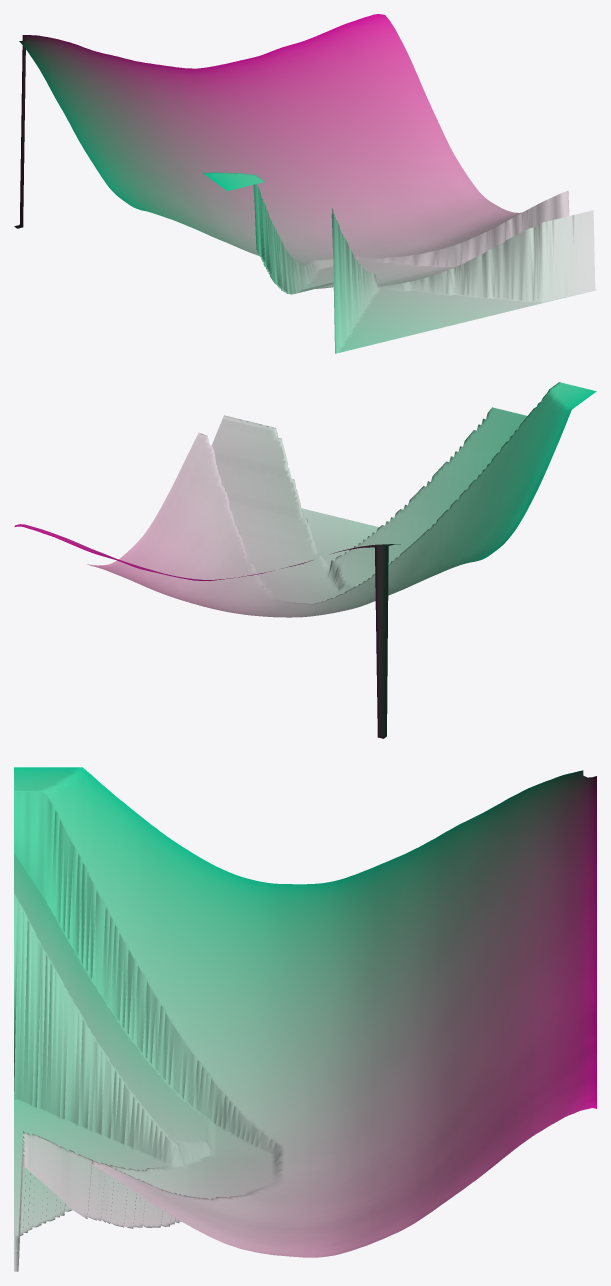
Rendered from dsm_c12c20f568_mesh.glb.
3 renders of one model, top to bottom at view 1: azimuth 30°, elevation 25°; view 2: azimuth 150°, elevation 25°; view 3: azimuth 270°, elevation 25°, orthographic. The views are drawn at different scales.
Parts seen in each view (by area): view 1: geometry_0; view 2: geometry_0; view 3: geometry_0.
Part boxes in pixels (box(x1,y1,x2,y2)): geometry_0: box(14, 14, 596, 353); geometry_0: box(14, 382, 596, 738); geometry_0: box(14, 767, 596, 1271).
Bounding box in the file's own units: 2 × 1 × 2.
